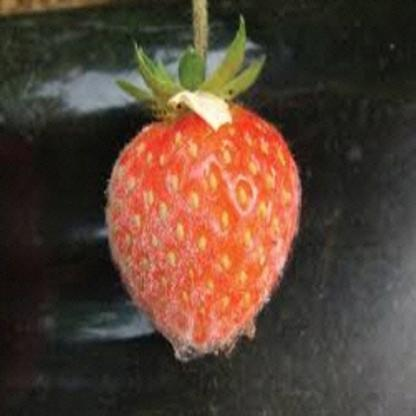Strawberry_Powdery_Mildew_Fruit: (106, 102, 304, 356)
